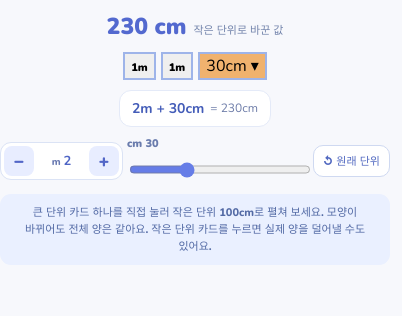
Test: 83개 교구 감사에서 발견한 슬라이더 전용 시각화 보완 › 1m 카드를 터치하면 정확히 100cm의 작은 단위 조각으로 펼쳐진다
Expected: the text "230 cm" is shown, [107,12,186,42]
Click the button named "1번째 1m 단위를 100cm로 펼쳐보기".
click(139, 66)  # box [123,52,156,80]
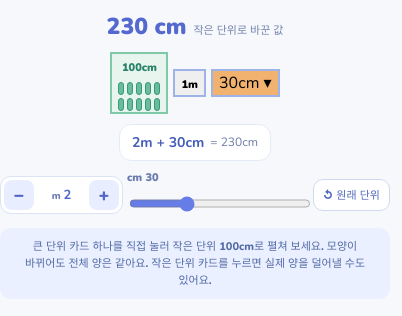
Expected: the text "230 cm" is shown, [107,12,186,42]
Result: the number of icons is 10
